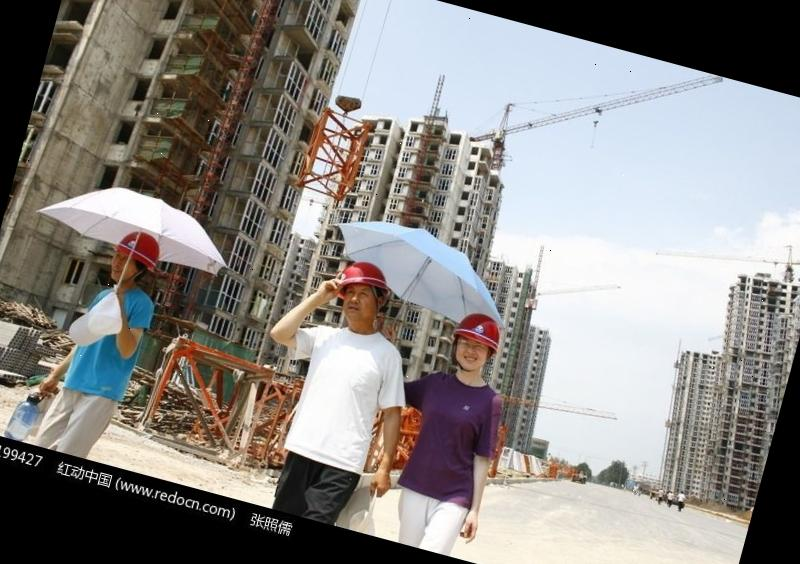helmet: (335, 256, 396, 299), (452, 309, 510, 353), (114, 226, 168, 268)
no_wear: (272, 323, 407, 481), (394, 372, 496, 507), (66, 283, 152, 403)
